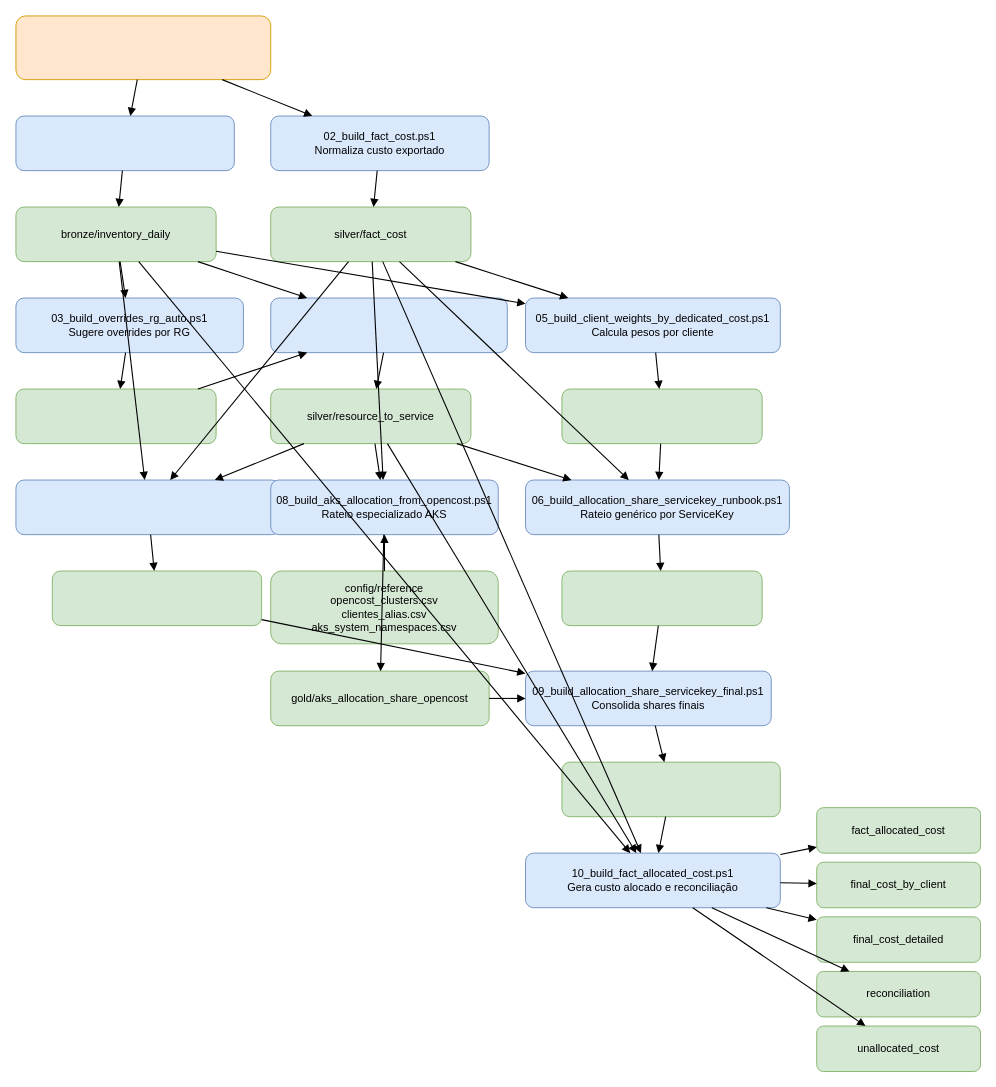
The diagram is 996 pixels wide and 1087 high, and some of its shapes have lost their labels. The shapes that lost their labels are listed below. From the top down, each one's centre as x and y in pixels, then its label:
At point 143,47: "97_run_finops_allocation_pipeline_runbooK.ps1 Runbook maestro / orquestração".
At point 124,143: "01_upload_inventory.ps1 Ingestão do inventário".
At point 388,325: "04_build_resource_to_service.ps1 Mapeia ResourceId -> ServiceKey".
At point 115,416: "overrides RG / candidatos".
At point 661,416: "silver/client_weights_by_dedicated_cost".
At point 147,507: "07_build_sqlpool_allocation_share_from_metrics.ps1 Rateio especializado SQL Pool".
At point 156,598: "gold/sqlpool_allocation_share_metrics".
At point 661,598: "silver/allocation_share_servicekey".
At point 670,789: "gold/allocation_share_servicekey_final".
